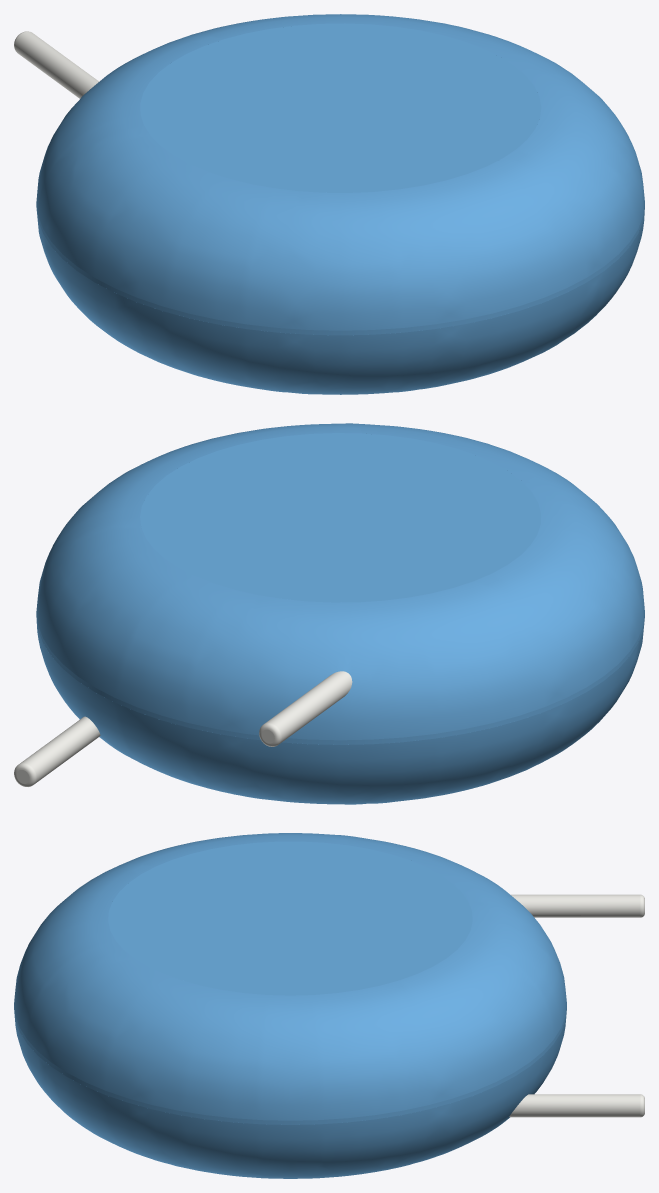
Rendered from RV_Disc_D21.5mm_W7.5mm_P10mm.glb.
The picture shows the model from 3 angles, top to bottom: view 1: azimuth 30°, elevation 25°; view 2: azimuth 150°, elevation 25°; view 3: azimuth 270°, elevation 25°; orthographic projection. The views are drawn at different scales.
Visible parts, largest first — view 1: Shape_IndexedFaceSet.001, Shape_IndexedFaceSet.003, Shape_IndexedFaceSet.002, Shape_IndexedFaceSet, Shape_IndexedFaceSet.004; view 2: Shape_IndexedFaceSet.001, Shape_IndexedFaceSet.003, Shape_IndexedFaceSet.002, Shape_IndexedFaceSet, Shape_IndexedFaceSet.004, Shape_IndexedFaceSet.006; view 3: Shape_IndexedFaceSet.001, Shape_IndexedFaceSet.003, Shape_IndexedFaceSet.002, Shape_IndexedFaceSet.006, Shape_IndexedFaceSet.004, Shape_IndexedFaceSet.
Boxes of the visible parts, x1=… form: Shape_IndexedFaceSet.001: x1=36, y1=14, x2=644, y2=330; Shape_IndexedFaceSet.003: x1=140, y1=23, x2=541, y2=192; Shape_IndexedFaceSet.002: x1=36, y1=192, x2=644, y2=394; Shape_IndexedFaceSet: x1=36, y1=203, x2=644, y2=335; Shape_IndexedFaceSet.004: x1=14, y1=31, x2=98, y2=98; Shape_IndexedFaceSet.001: x1=36, y1=423, x2=644, y2=740; Shape_IndexedFaceSet.003: x1=140, y1=433, x2=540, y2=602; Shape_IndexedFaceSet.002: x1=36, y1=617, x2=644, y2=804; Shape_IndexedFaceSet: x1=36, y1=612, x2=644, y2=744; Shape_IndexedFaceSet.004: x1=265, y1=671, x2=352, y2=743; Shape_IndexedFaceSet.006: x1=20, y1=716, x2=100, y2=784; Shape_IndexedFaceSet.001: x1=14, y1=833, x2=566, y2=1120; Shape_IndexedFaceSet.003: x1=108, y1=841, x2=472, y2=995; Shape_IndexedFaceSet.002: x1=14, y1=1010, x2=566, y2=1178; Shape_IndexedFaceSet.006: x1=509, y1=1094, x2=640, y2=1117; Shape_IndexedFaceSet.004: x1=510, y1=894, x2=640, y2=917; Shape_IndexedFaceSet: x1=14, y1=1005, x2=566, y2=1124.
Bounding box in the file's own units: 8.47 × 2.95 × 9.66.
